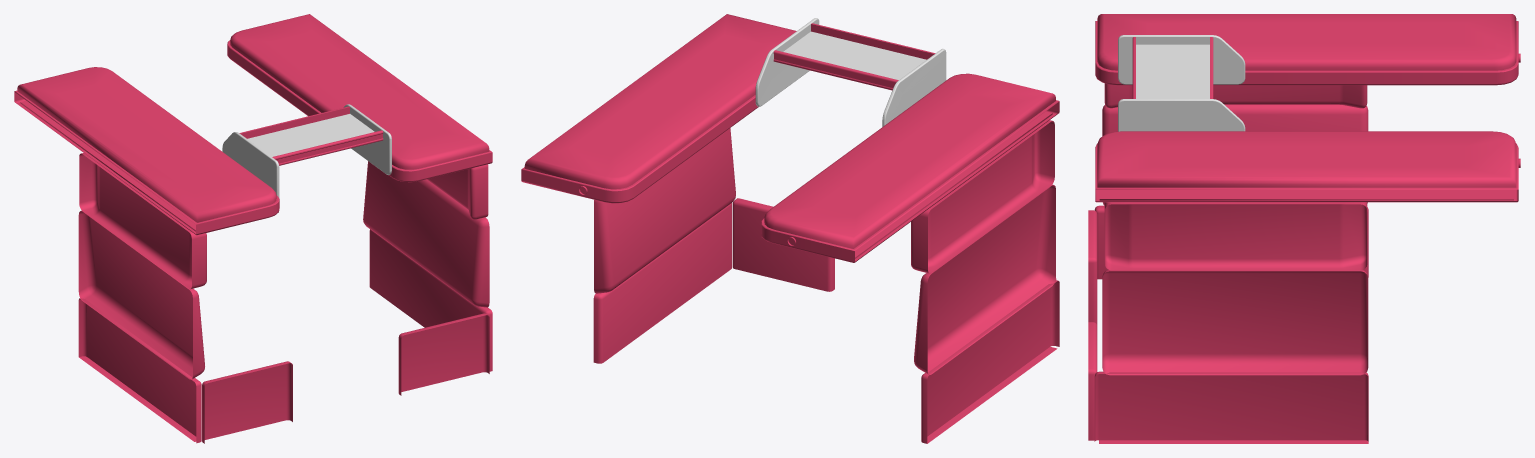
Rendered from Vagon_Stateroom_Furniture_01.fbx.
3 renders of one model, left to right at view 1: azimuth 30°, elevation 25°; view 2: azimuth 150°, elevation 25°; view 3: azimuth 270°, elevation 25°, orthographic. The views are drawn at different scales.
Parts seen in each view (by area): view 1: Vagon_Stateroom_Furniture_01; view 2: Vagon_Stateroom_Furniture_01; view 3: Vagon_Stateroom_Furniture_01.
Part boxes in pixels (x1,y1,x2,y2): Vagon_Stateroom_Furniture_01: (14,14,492,443); Vagon_Stateroom_Furniture_01: (521,14,1059,443); Vagon_Stateroom_Furniture_01: (1088,14,1520,443).
Size of the model in its own units: 1.71 by 1.39 by 1.86.
